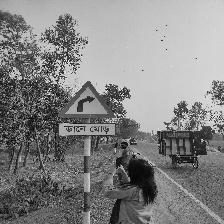Right-turn: (57, 81, 117, 138)
